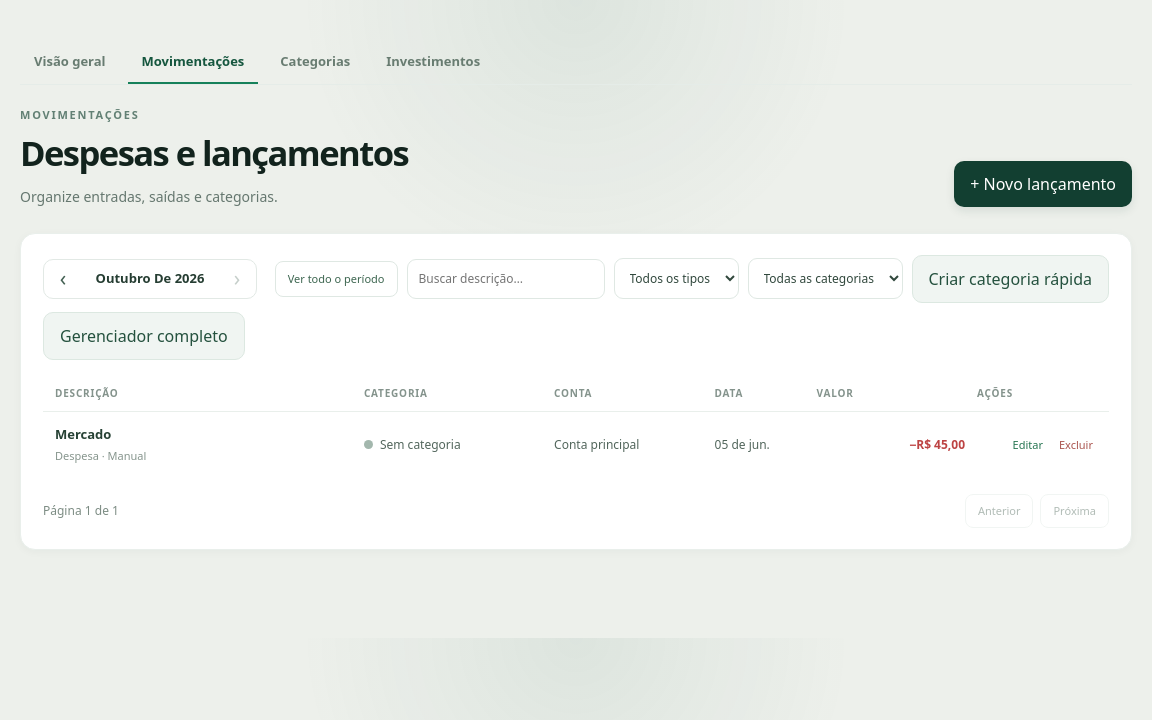
Test: closes the transaction editor when Escape is pressed
Check: the text "Mercado" is shown, box [55,425,111,443]
Click the button with aria-label "Editar Mercado" at coordinates (1028, 445), box [1009,433,1047,457]
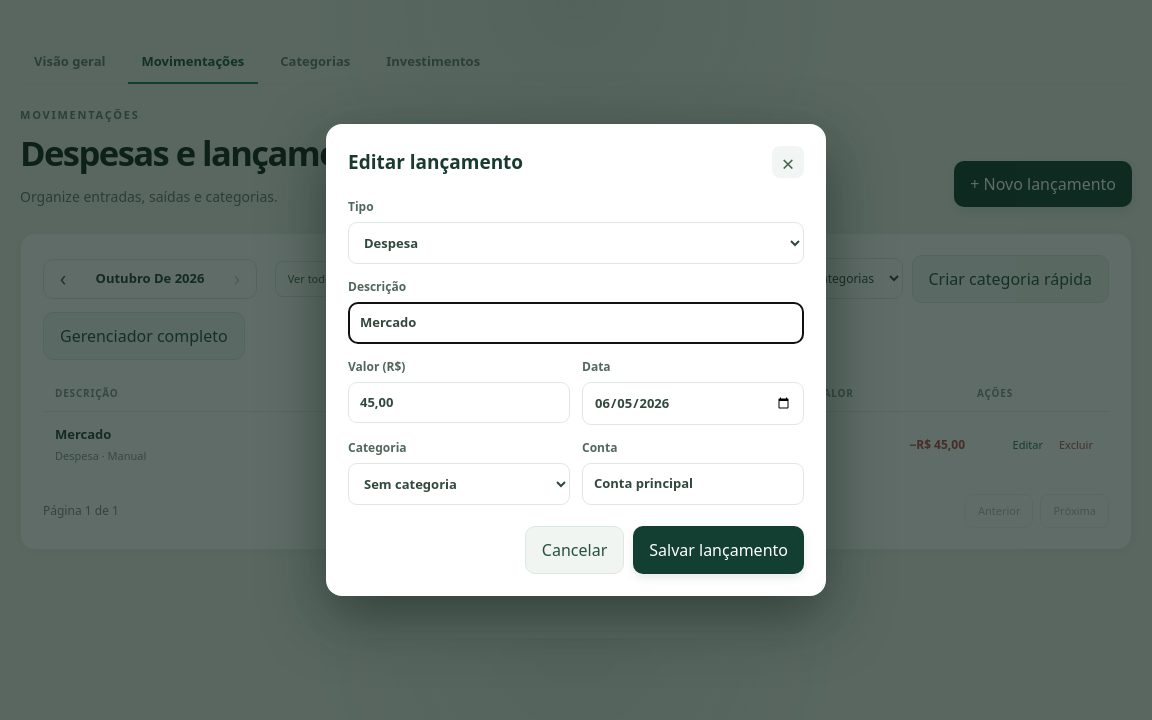
Check: the dialog is shown, box [326,124,826,596]
Press Escape
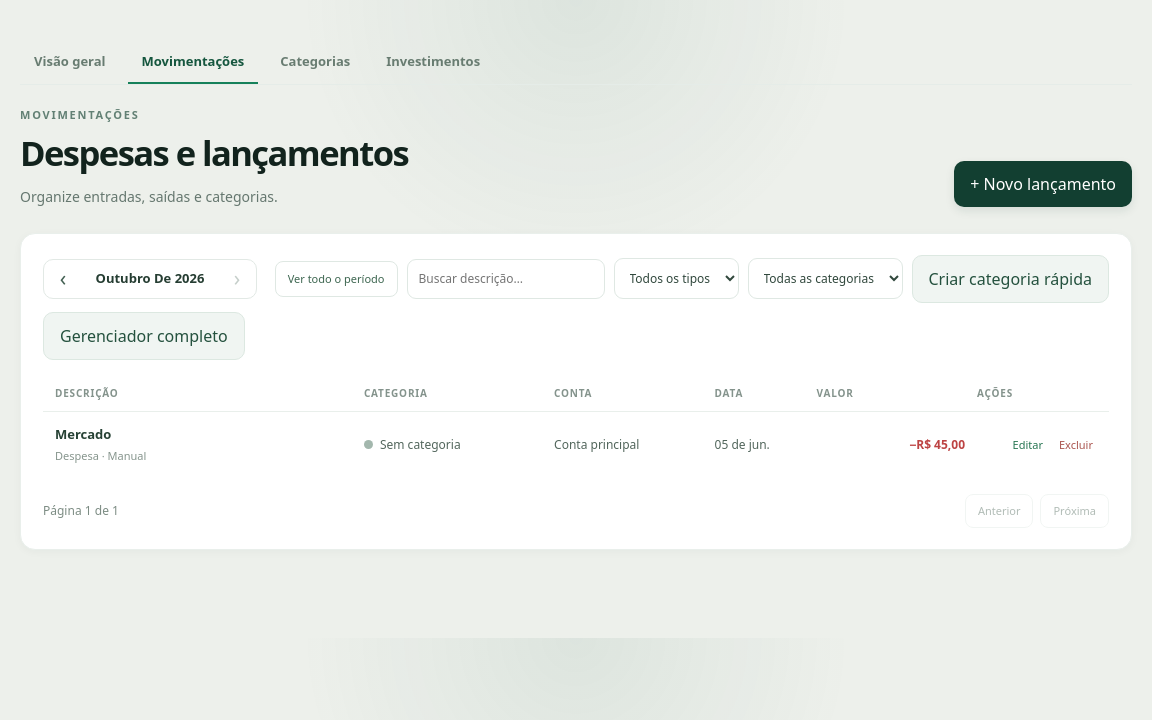
Check: the dialog is gone
